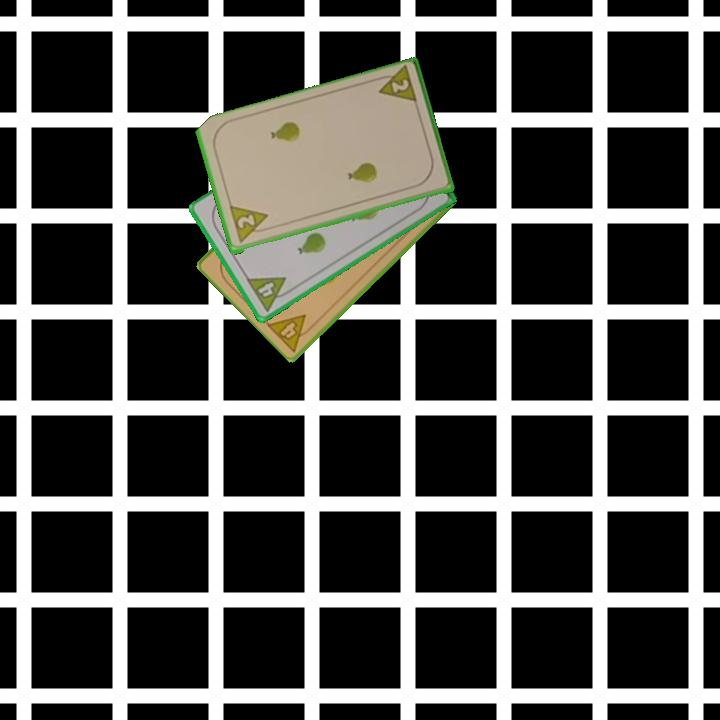2p: (226, 203, 274, 246), (387, 76, 412, 96)
4p: (263, 311, 319, 355), (243, 273, 296, 315)
